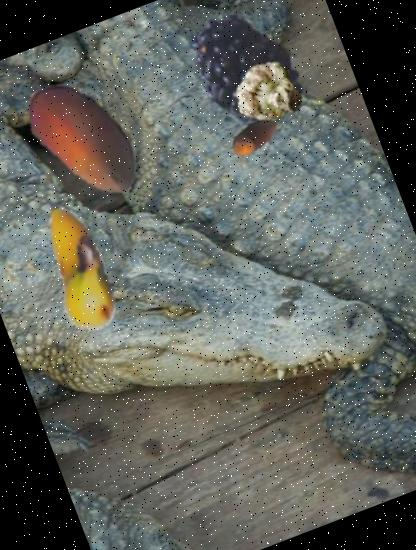Banana: (0, 184, 168, 352)
Cauliflower: (226, 52, 310, 136)
Hazelnut: (0, 49, 173, 227), (221, 102, 289, 170)
Mulberry: (149, 0, 338, 183)
